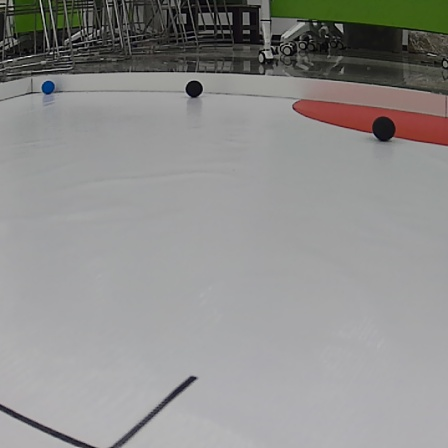black: (362, 113, 403, 141), (184, 82, 205, 99)
blue: (40, 78, 59, 96)
red_base: (294, 89, 448, 154)
